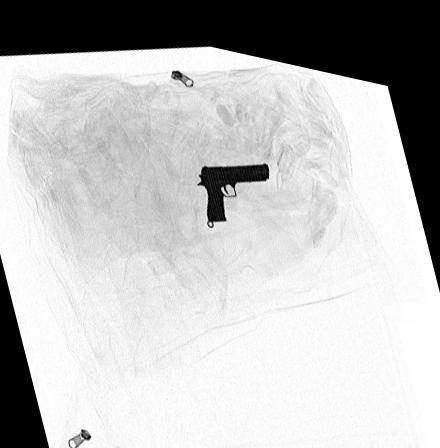Gun: (196, 150, 269, 212)
